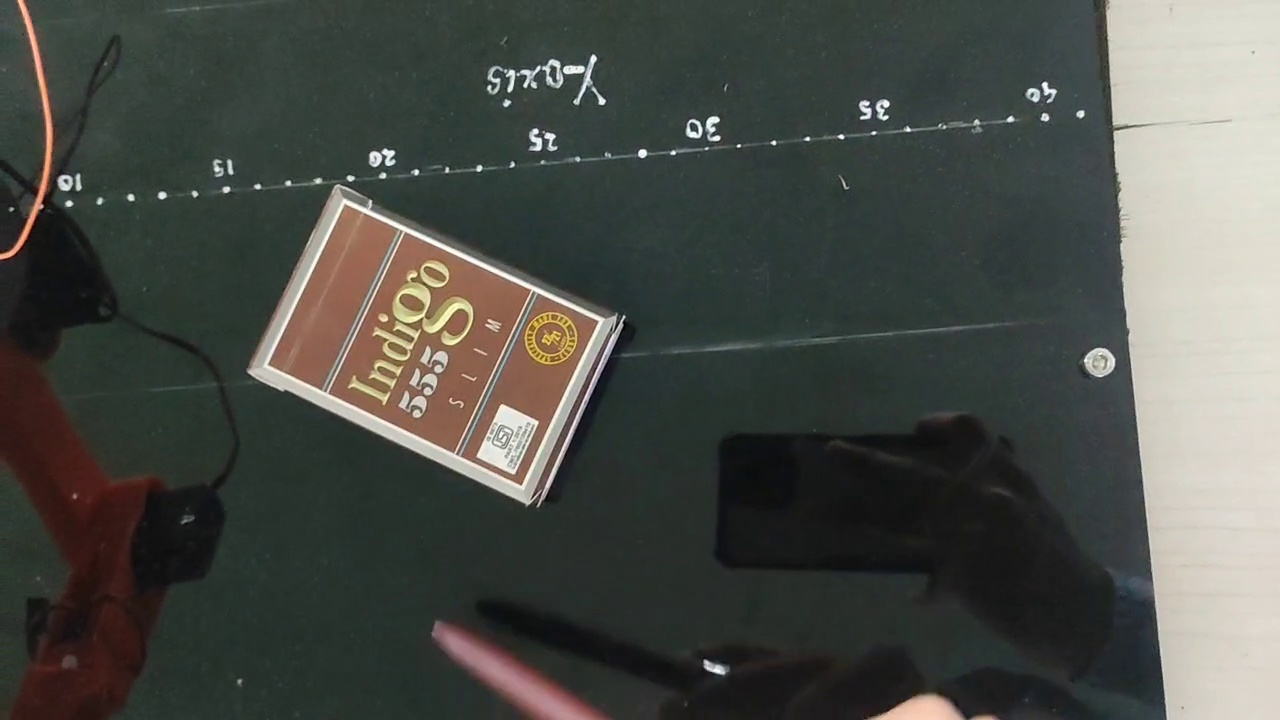BEX: (264, 201, 598, 488)
